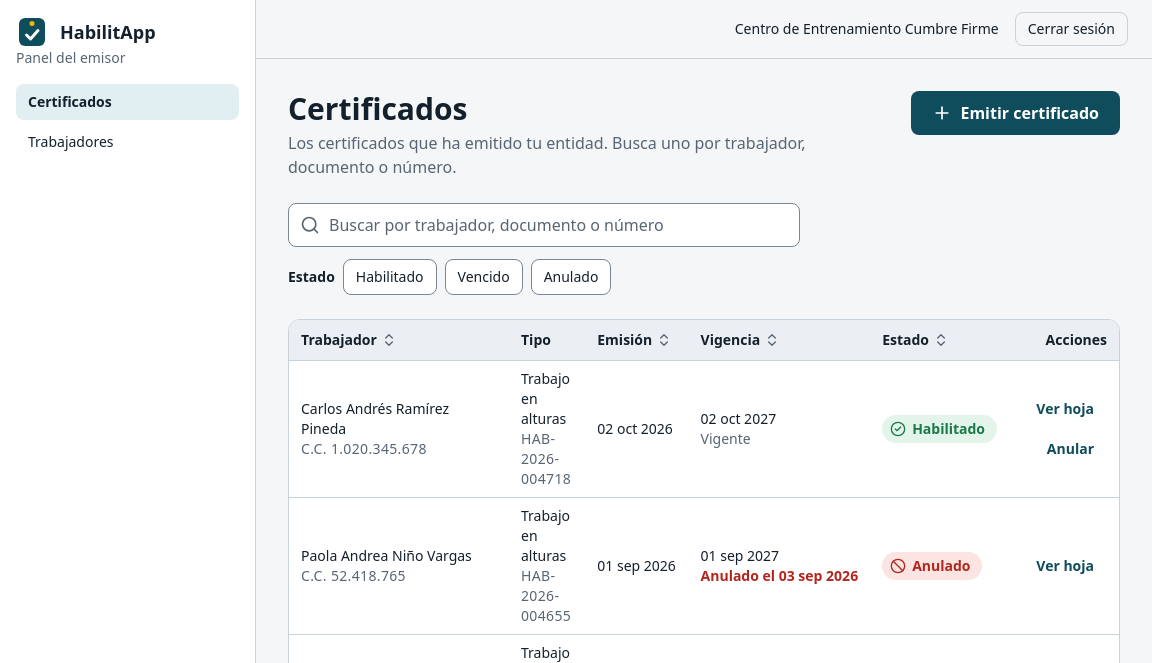
it: CertificatesPage › annulling › closes with Cancelar without annulling
The image size is (1152, 663).
Click the button with aria-label "Anular el certificado HAB-2026-004718".
click(1070, 448)  # box [1034,430,1107,466]
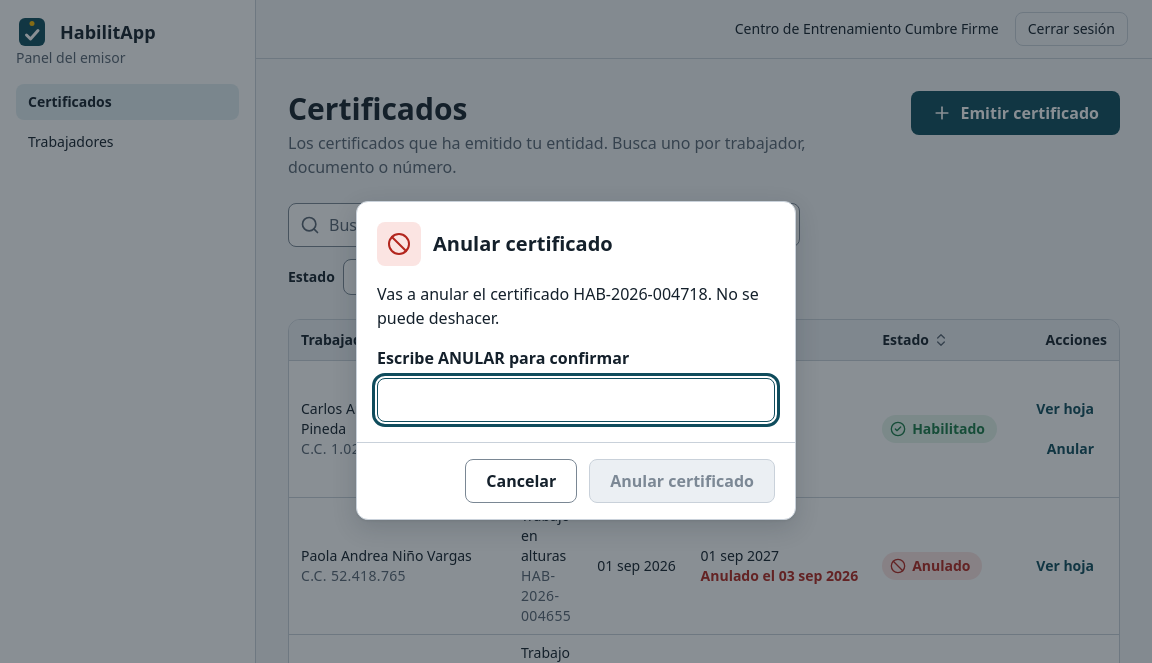
Click the button "Cancelar".
click(521, 480)  # box [465,458,577,502]
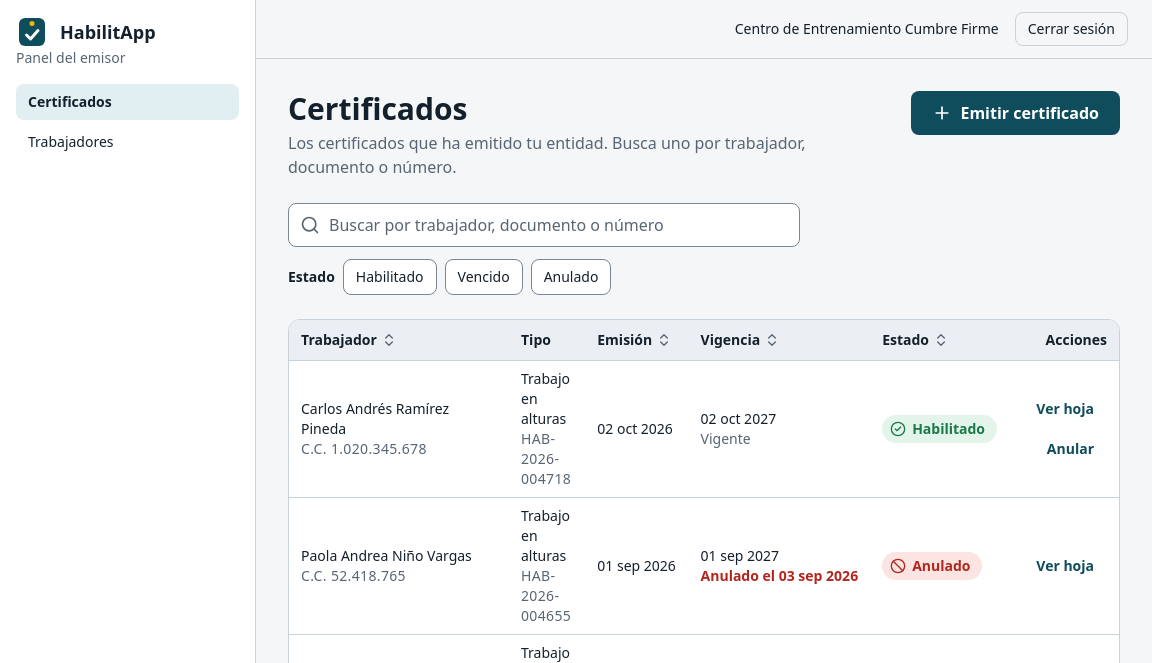
Check: the dialog is gone
